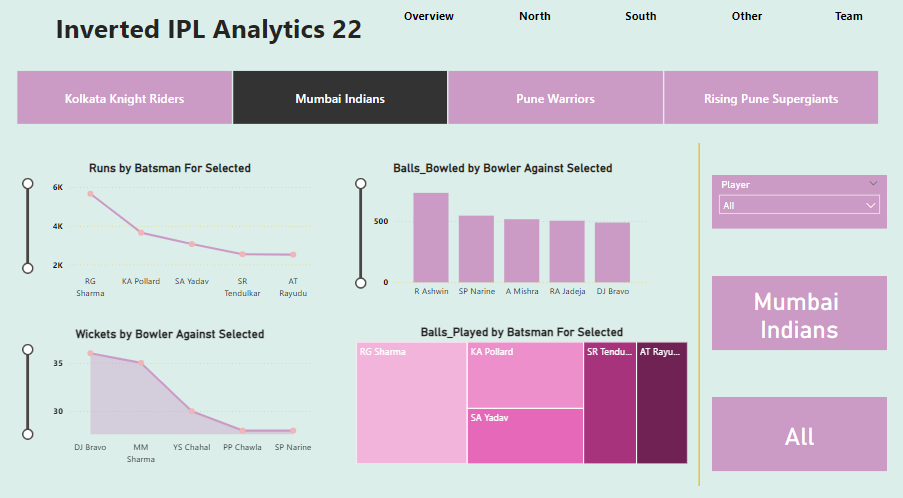

This screenshot's page, from the dashboard's own definition file:
{"tool":"powerbi","page":{"name":"Other","canvas":[1280,720],"ordinal":3},"visuals":[{"type":"slicer","fields":{"Values":["deliveries.batting_team"]},"box":[0,101,1270,89],"z":0},{"type":"card","fields":{"Values":["deliveries.Selected Team"]},"box":[1010,398,248,105],"z":1000},{"type":"slicer","fields":{"Values":["deliveries.batter"]},"box":[1010,255,248,76],"z":2000},{"type":"lineChart","title":"Runs by Batsman For Selected","fields":{"Category":["deliveries.batter"],"Y":["Sum(deliveries.total_runs)"]},"box":[30,235,425,202],"z":3000},{"type":"areaChart","title":"Wickets by Bowler Against Selected","fields":{"Category":["deliveries.bowler"],"Y":["Sum(deliveries.is_wicket)"]},"box":[30,470,425,202],"z":4000},{"type":"treemap","title":"Balls_Played by Batsman For Selected","fields":{"Group":["deliveries.batter"],"Values":["CountNonNull(deliveries.inning)"]},"box":[502,468,479,202],"z":5000},{"type":"columnChart","title":"Balls_Bowled by Bowler Against Selected","fields":{"Category":["deliveries.bowler"],"Y":["CountNonNull(deliveries.over)"]},"box":[502,235,425,202],"z":6000},{"type":"card","fields":{"Values":["deliveries.Selected Player"]},"box":[1010,570,248,105],"z":7000},{"type":"shape","box":[964,209.2,57.2,486.3],"z":8000},{"type":"shape","box":[534.5,0,150.2,59],"z":9000},{"type":"shape","box":[684.7,0,150.2,59],"z":10000},{"type":"shape","box":[834.9,0,150.2,59],"z":11000},{"type":"shape","box":[985,0,150.2,59],"z":12000},{"type":"shape","box":[1129.8,0,150.2,59],"z":13000},{"type":"textbox","box":[51.8,16.1,500.6,85.8],"z":14000}]}

Visuals, with their boxes in screenshot pixels (x1, y1, x2, y2), scaled from the page's 1280x720 canvas onto the 903x498 screenshot:
slicer - deliveries.batting_team: detection(0, 70, 896, 131)
card - deliveries.Selected Team: detection(713, 275, 887, 348)
slicer - deliveries.batter: detection(713, 176, 887, 229)
"Runs by Batsman For Selected" lineChart: detection(21, 163, 321, 302)
"Wickets by Bowler Against Selected" areaChart: detection(21, 325, 321, 465)
"Balls_Played by Batsman For Selected" treemap: detection(354, 324, 692, 463)
"Balls_Bowled by Bowler Against Selected" columnChart: detection(354, 163, 654, 302)
card - deliveries.Selected Player: detection(713, 394, 887, 467)
shape: detection(680, 145, 720, 481)
shape: detection(377, 0, 483, 41)
shape: detection(483, 0, 589, 41)
shape: detection(589, 0, 695, 41)
shape: detection(695, 0, 801, 41)
shape: detection(797, 0, 902, 41)
textbox: detection(37, 11, 390, 70)
